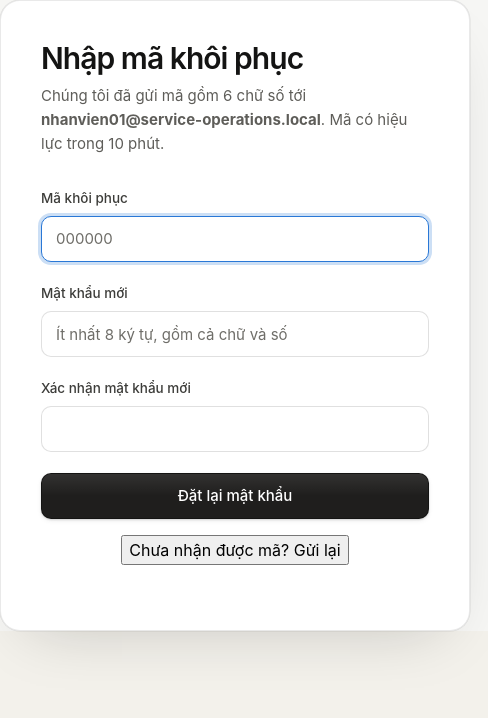
it: ResetPasswordForm — nhập mã khôi phục (NCL-01-CN-008) › chặn mã không đủ 6 chữ số ngay tại giao diện, không gọi API
Step 1. Type "123" into the field labelled "Mã khôi phục" → (235, 239), box [41,216,429,262]
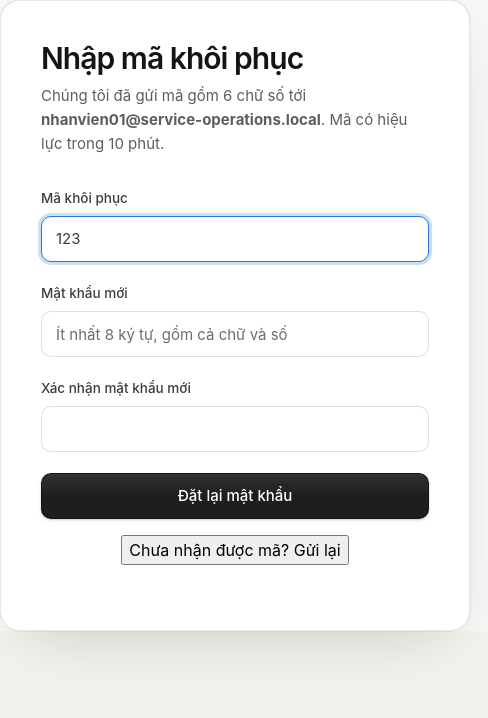
Step 2. Type "MatKhauMoi2" into the password field labelled "Mật khẩu mới" → (235, 334), box [41,311,429,357]
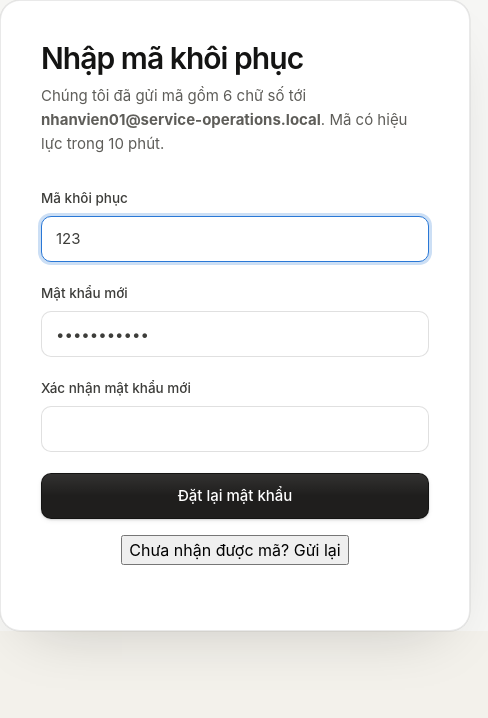
Step 3. Type "MatKhauMoi2" into the password field labelled "Xác nhận mật khẩu mới" → (235, 429), box [41,406,429,452]
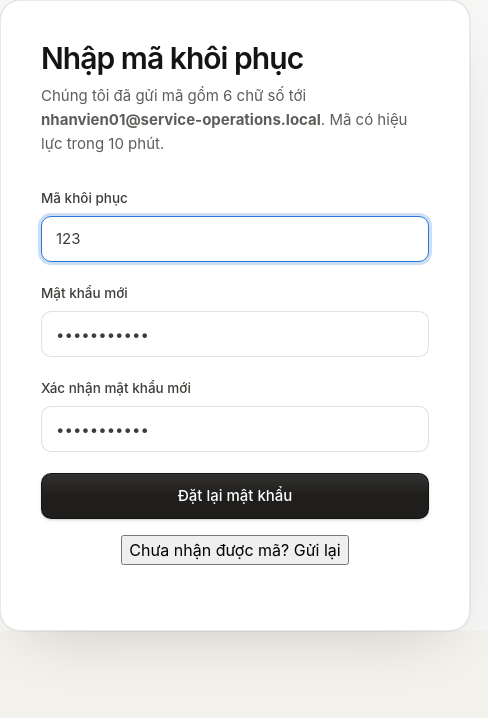
Step 4. Click the button "Đặt lại mật khẩu" → (235, 496), box [41,473,429,519]
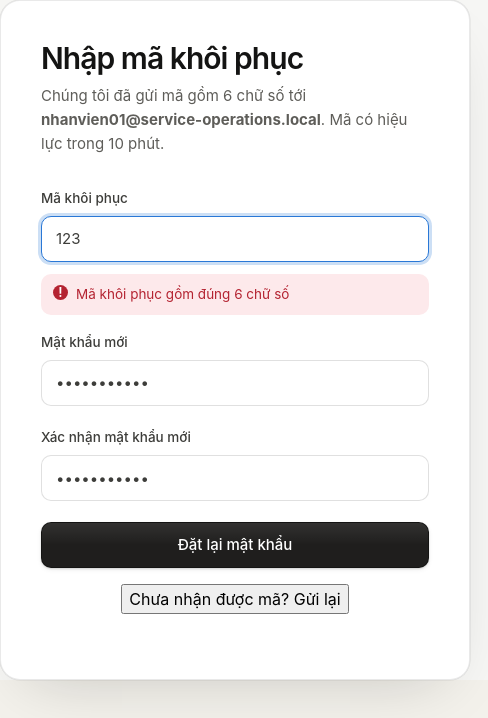
expect the text "Mã khôi phục gồm đúng 6 chữ số" is shown: met, box [76,286,289,302]
